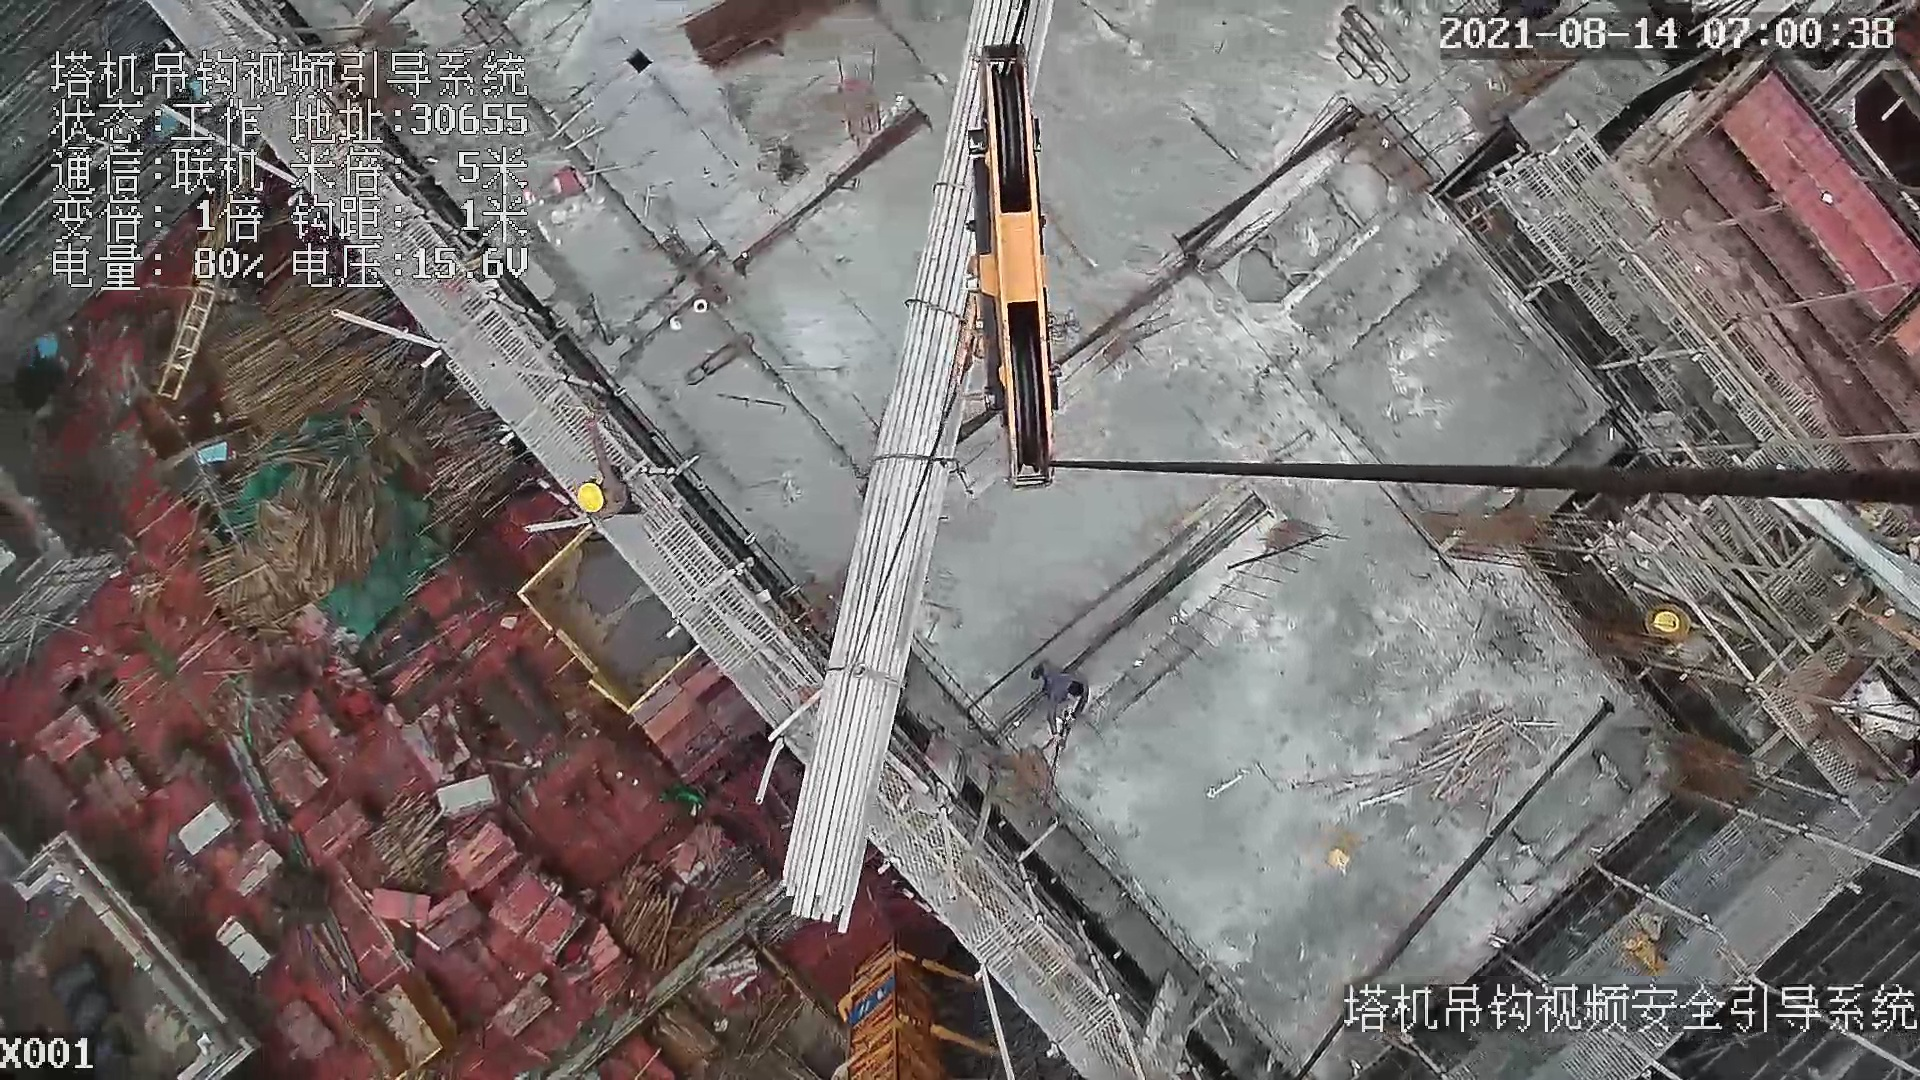helmet: (571, 478, 613, 519)
hook: (923, 31, 1064, 499)
person: (569, 417, 641, 522), (1028, 655, 1088, 750)
